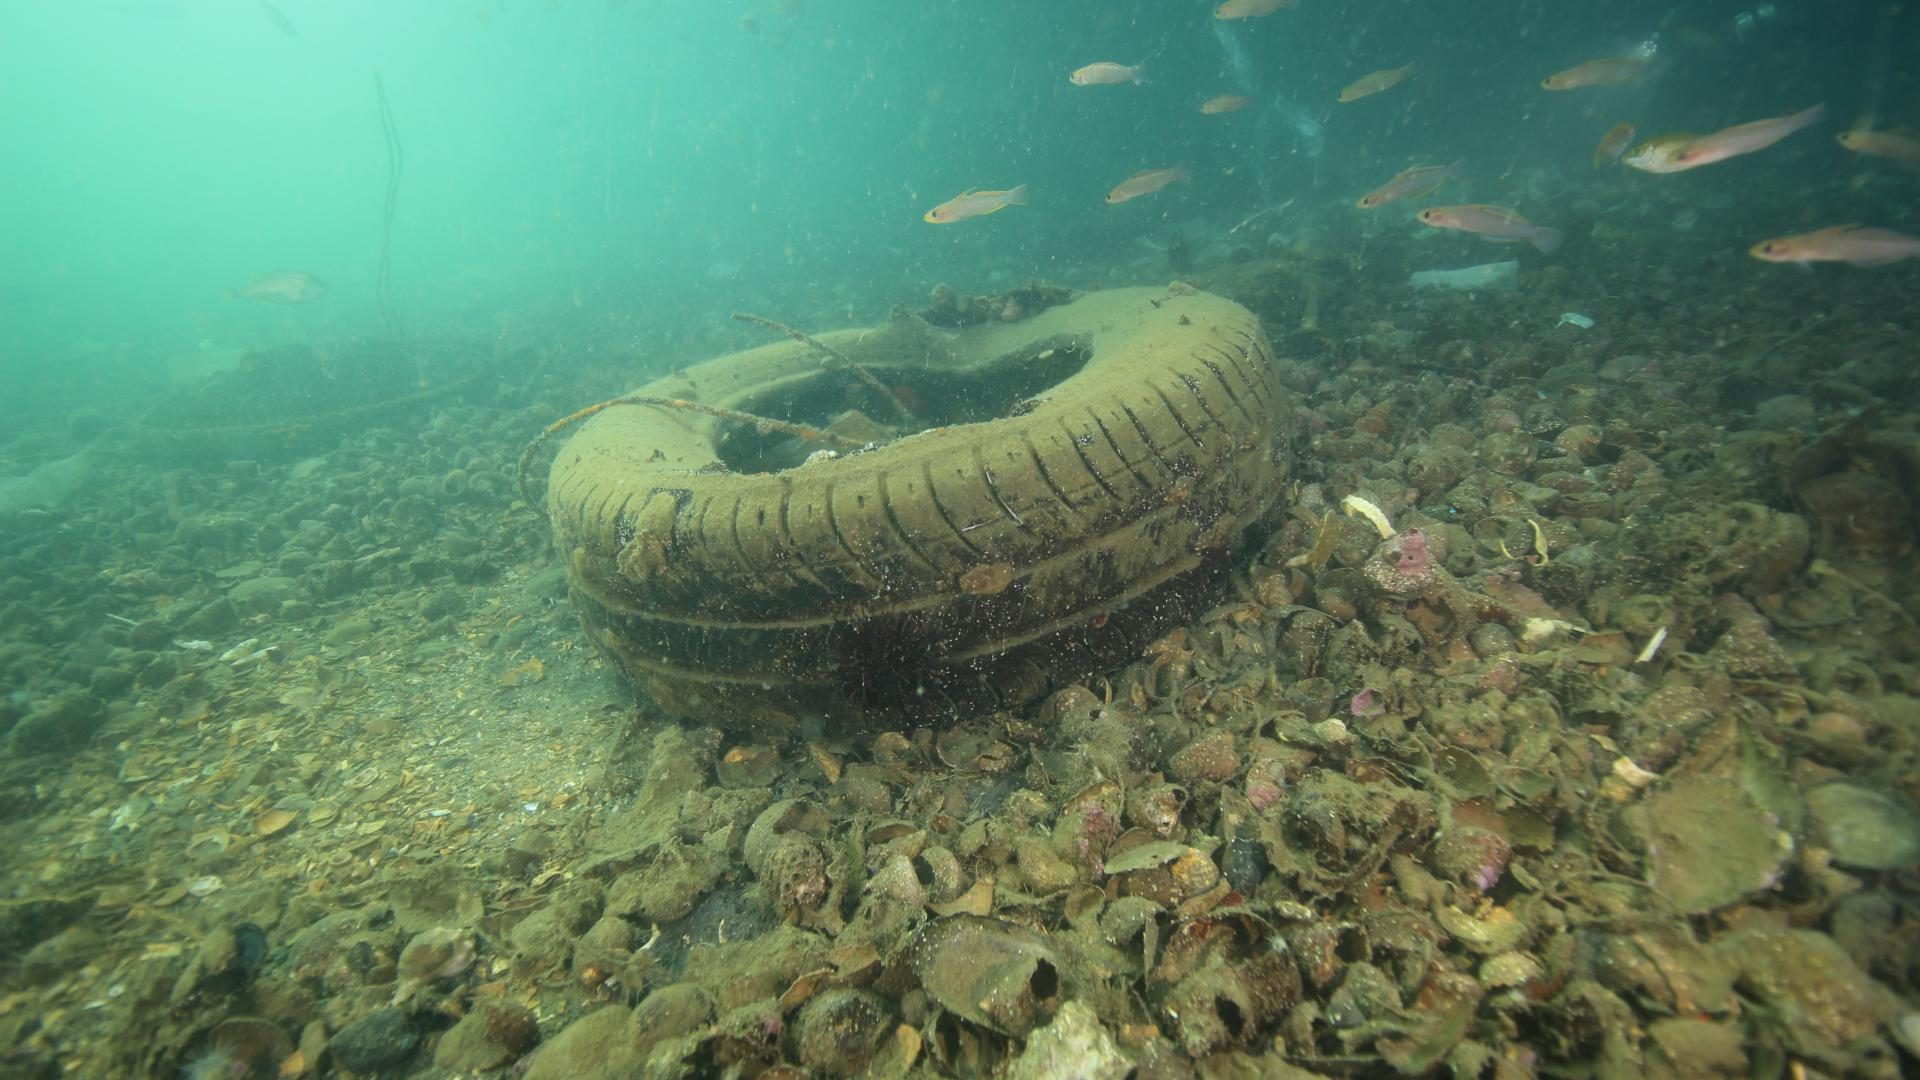tire: (547, 284, 1276, 742)
